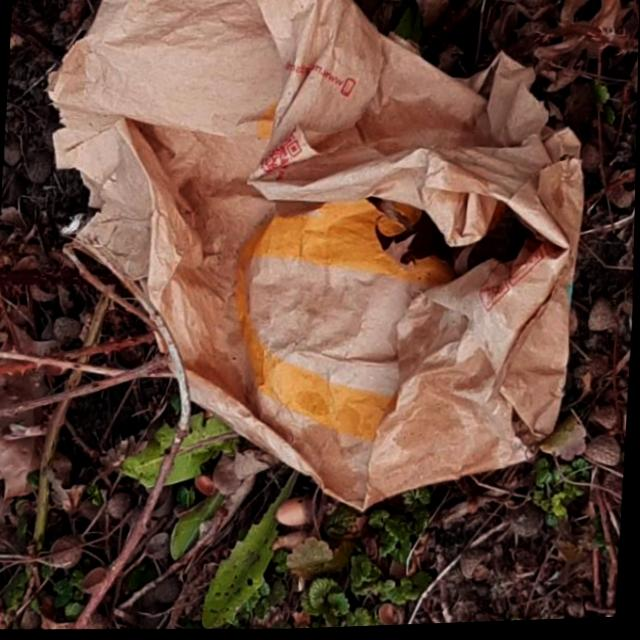Paper: (17, 0, 596, 535)
